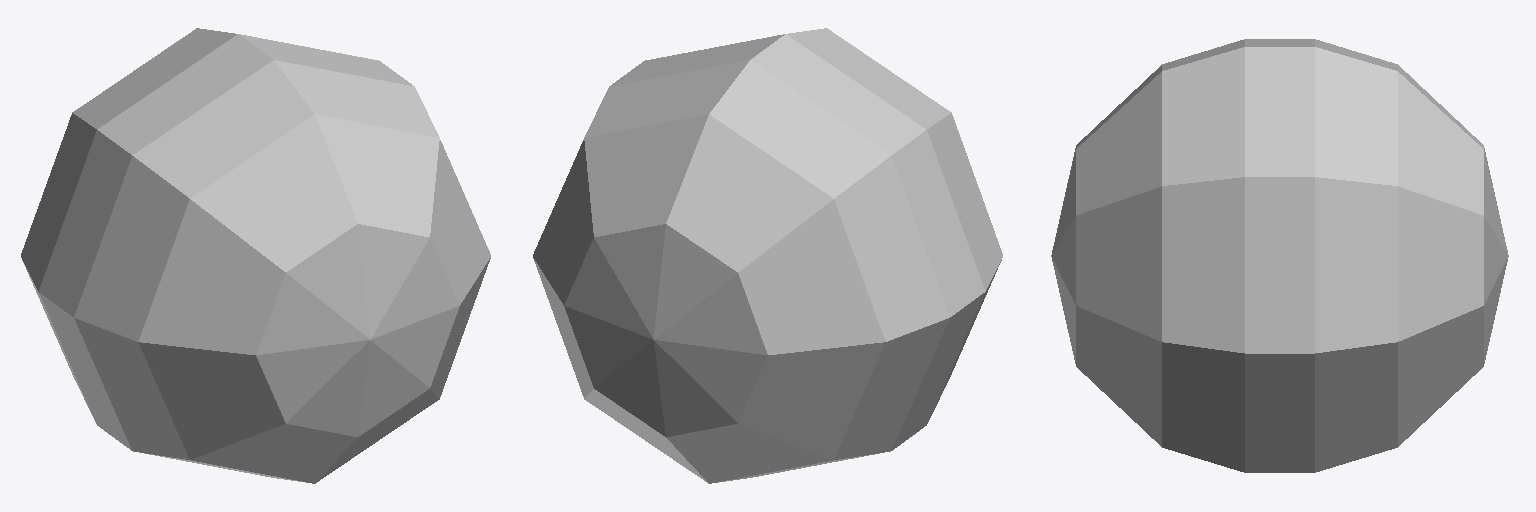
The model's file is globe7_static.obj.
3 renders of one model, left to right at view 1: azimuth 30°, elevation 25°; view 2: azimuth 150°, elevation 25°; view 3: azimuth 270°, elevation 25°, orthographic.
Visible parts, largest first — view 1: frm-Reciever; view 2: frm-Reciever; view 3: frm-Reciever.
Part boxes in pixels (bbox=[...]): frm-Reciever: bbox=[21, 28, 490, 483]; frm-Reciever: bbox=[533, 28, 1002, 483]; frm-Reciever: bbox=[1051, 39, 1508, 472].
Bounding box in the file's own units: 14695 × 14695 × 14568.